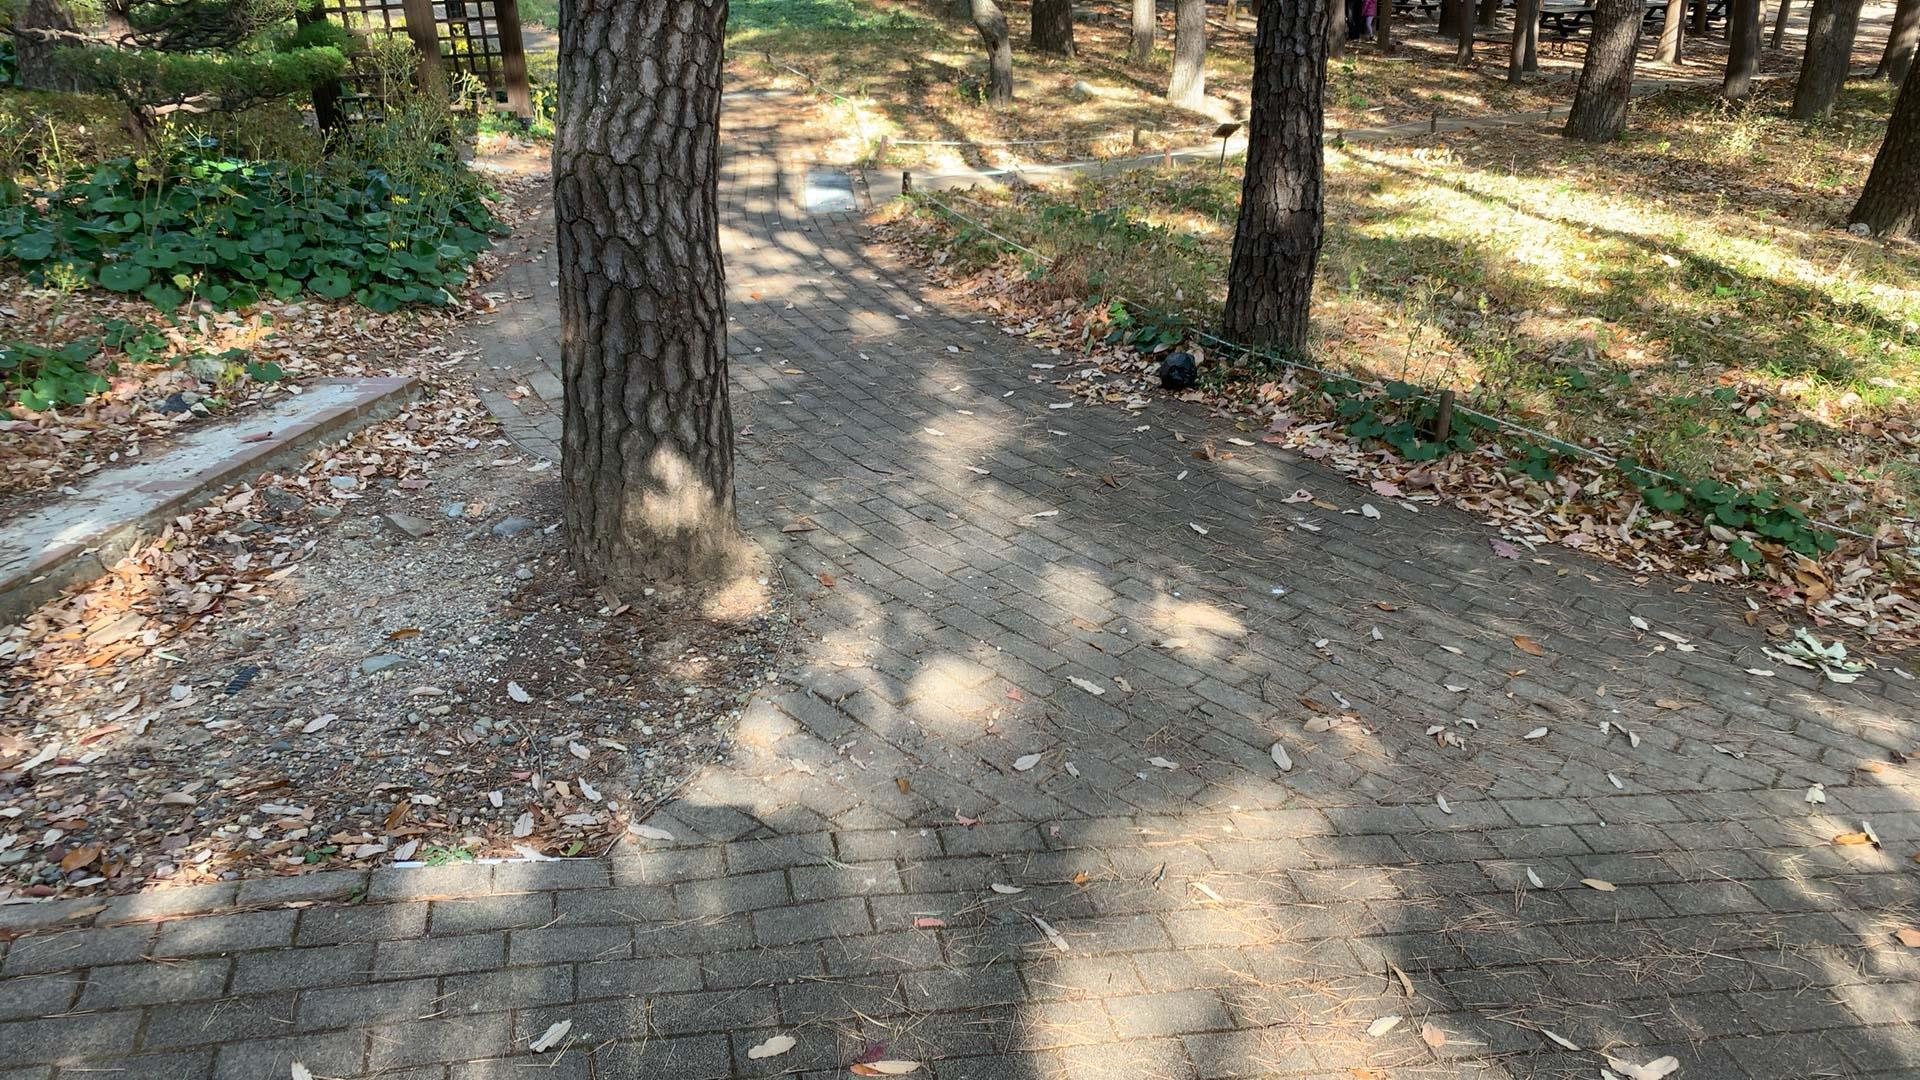black_bag: (1155, 348, 1199, 392)
